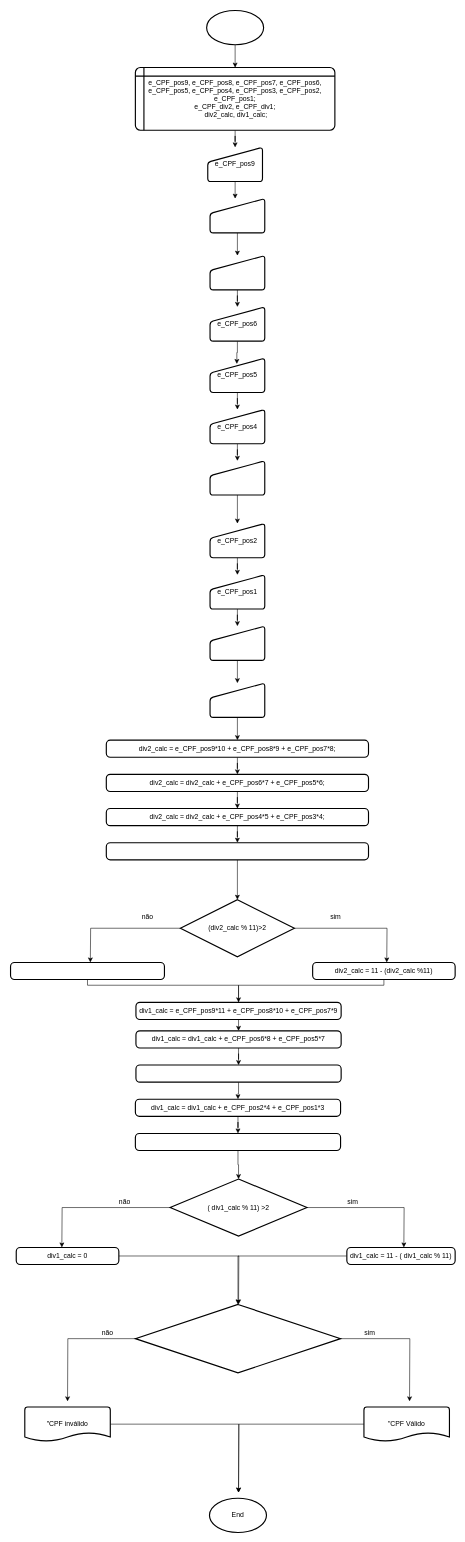
This 465x1542 diagram has some shape labels left out. Each missing label, with the box of its shape:
((div2_calc == e_CPF_div2) && ( div1_calc == e_CPF_div1)): (135, 1304, 341, 1373)
div1_calc: (209, 682, 265, 718)
div1_calc = div1_calc + div2_calc *2: (135, 1133, 341, 1151)
div1_calc = div1_calc + e_CPF_pos4*6 + e_CPF_pos3*5: (135, 1064, 341, 1082)
div2_calc: (209, 625, 265, 661)
div2_calc = 0: (10, 962, 165, 980)
div2_calc = div2_calc + e_CPF_pos2*3 + e_CPF_pos1*2;: (105, 842, 369, 860)
e_CPF_pos3: (209, 460, 265, 495)
e_CPF_pos7: (209, 255, 265, 290)
e_CPF_pos8: (209, 198, 265, 233)
Start: (206, 10, 264, 45)
